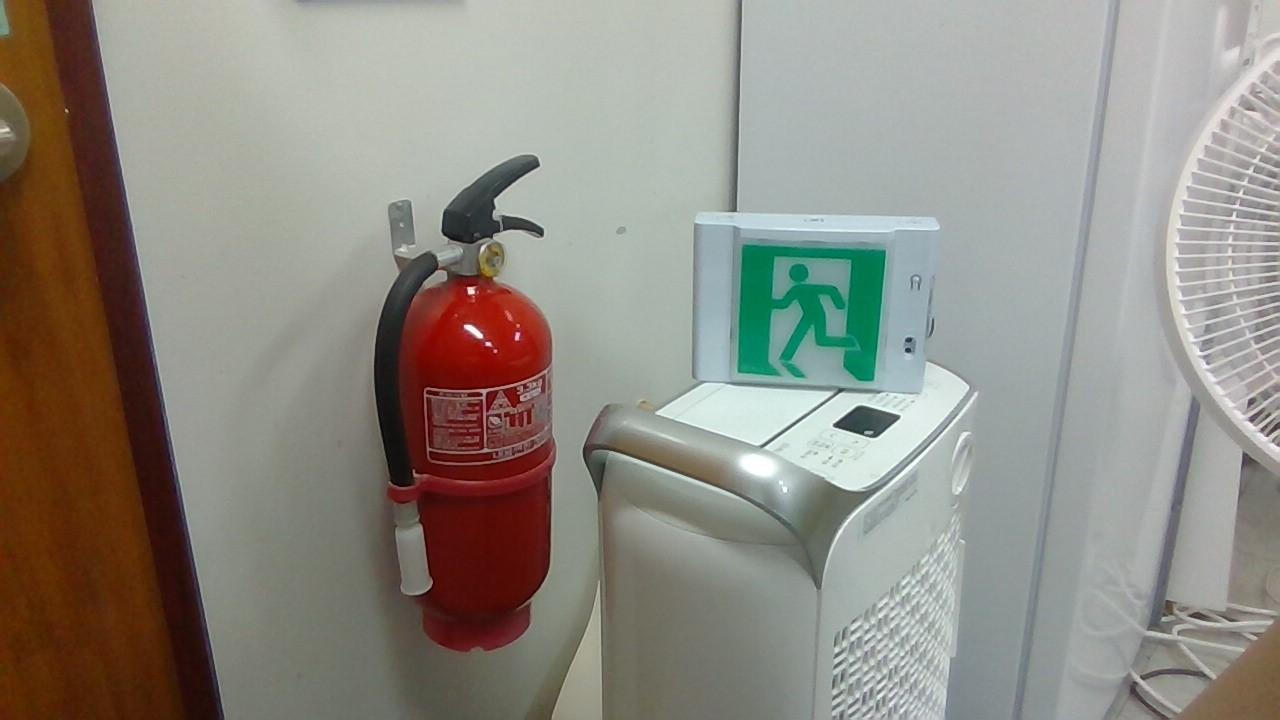emergency_exit: (691, 210, 941, 396)
